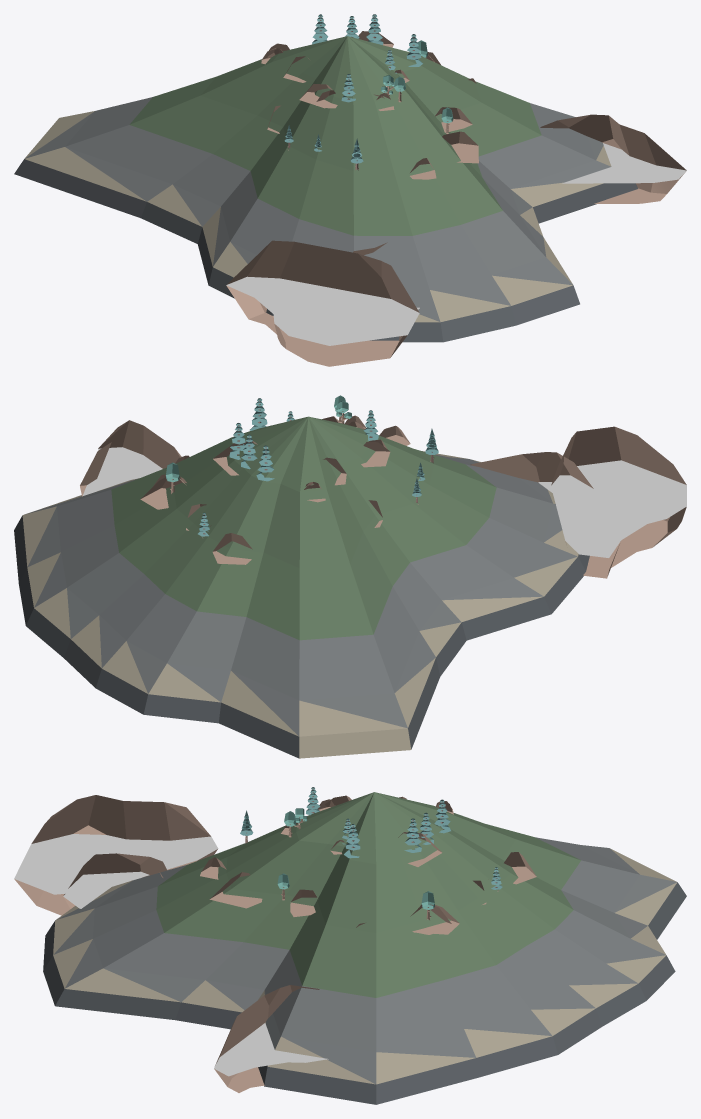
Rendered from wrights_isle_lod0.glb.
3 renders of one model, top to bottom at view 1: azimuth 30°, elevation 25°; view 2: azimuth 150°, elevation 25°; view 3: azimuth 270°, elevation 25°, orthographic. The views are drawn at different scales.
Size of the model in its own units: 2.36 by 0.8345 by 2.75.
